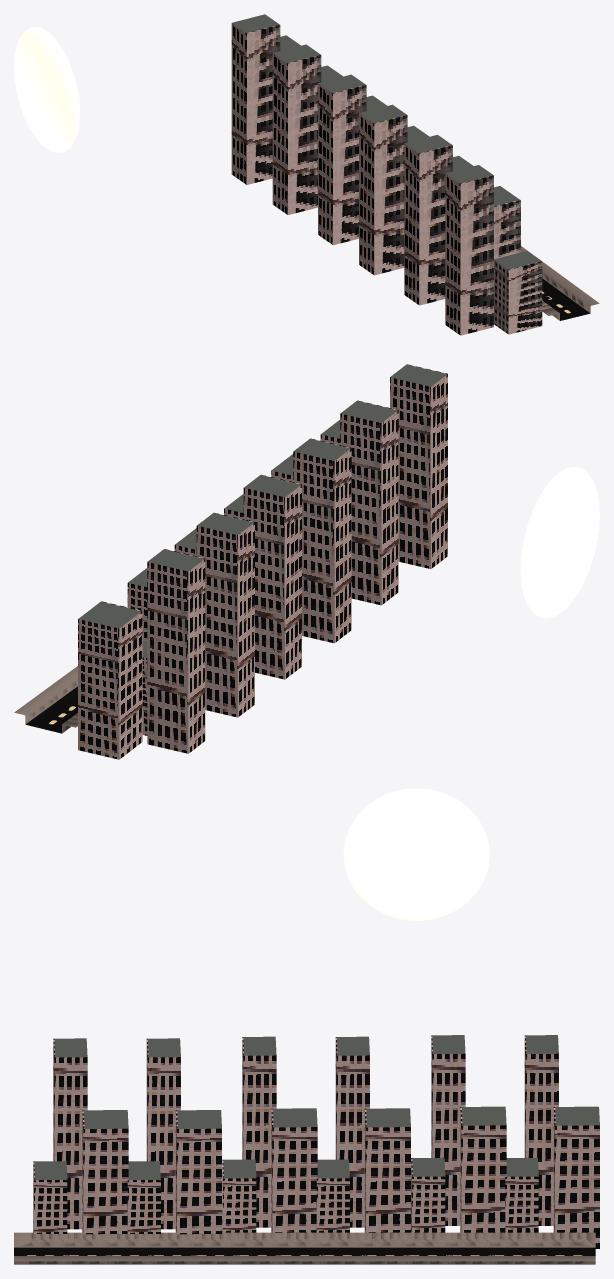
File: firsthouse_background.glb
The picture shows the model from 3 angles, top to bottom: view 1: azimuth 30°, elevation 25°; view 2: azimuth 150°, elevation 25°; view 3: azimuth 270°, elevation 25°; orthographic projection. The views are drawn at different scales.
Visible parts, largest first — view 1: buildinh array.001, buildinh array, sun, city; view 2: buildinh array, buildinh array.001, sun, city; view 3: buildinh array, buildinh array.001, city, sun.
Boxes of the visible parts, bbox=[...] form: buildinh array.001: bbox=[272, 44, 542, 335]; buildinh array: bbox=[231, 14, 473, 305]; sun: bbox=[14, 27, 79, 152]; city: bbox=[521, 246, 599, 320]; buildinh array: bbox=[78, 400, 398, 759]; buildinh array.001: bbox=[127, 364, 447, 717]; sun: bbox=[520, 467, 599, 618]; city: bbox=[14, 666, 77, 733]; buildinh array: bbox=[127, 1035, 599, 1248]; buildinh array.001: bbox=[33, 1035, 506, 1234]; city: bbox=[14, 1232, 595, 1264]; sun: bbox=[343, 788, 489, 920].
Size of the model in its own units: 6.53 by 4.09 by 7.64.
Materials: 3 (2 with a texture image).
